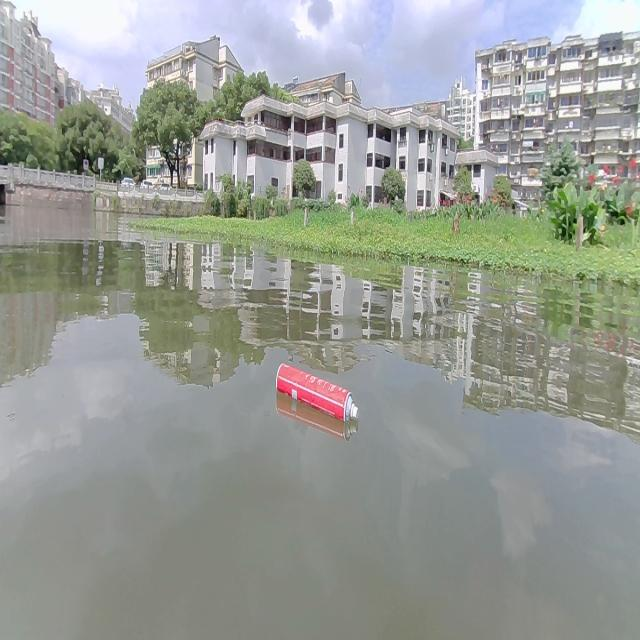bottle: (275, 361, 359, 420)
